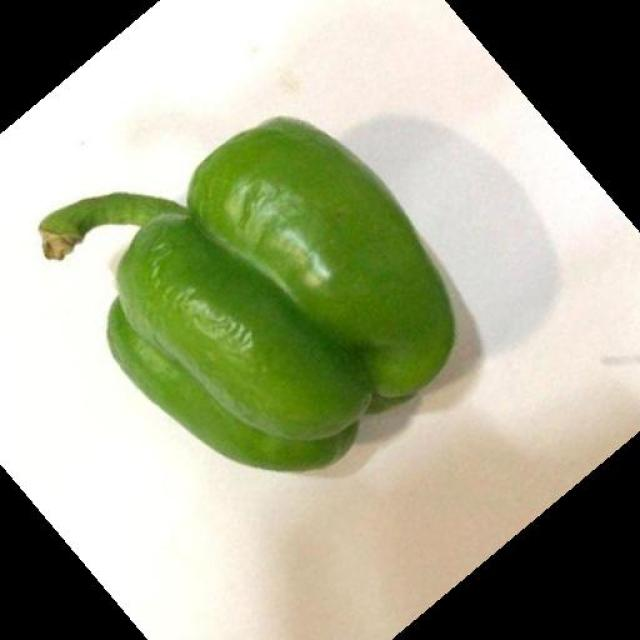Fresh_Capsicum: (42, 149, 461, 458)
